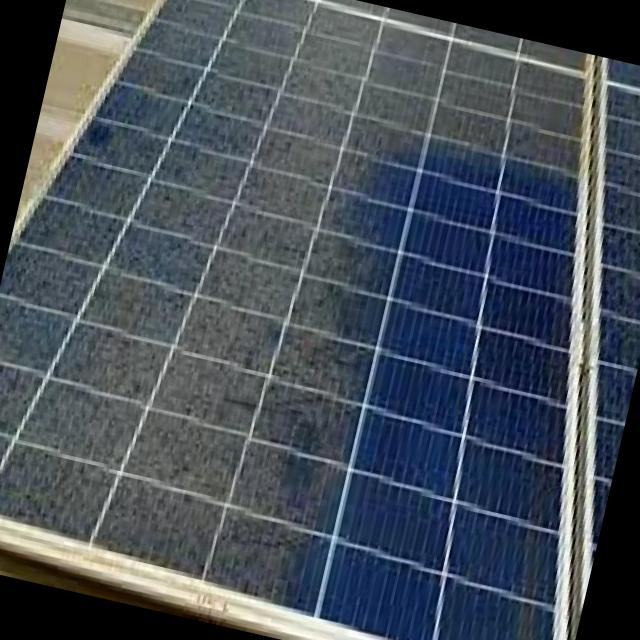faulty: (0, 0, 591, 640)
